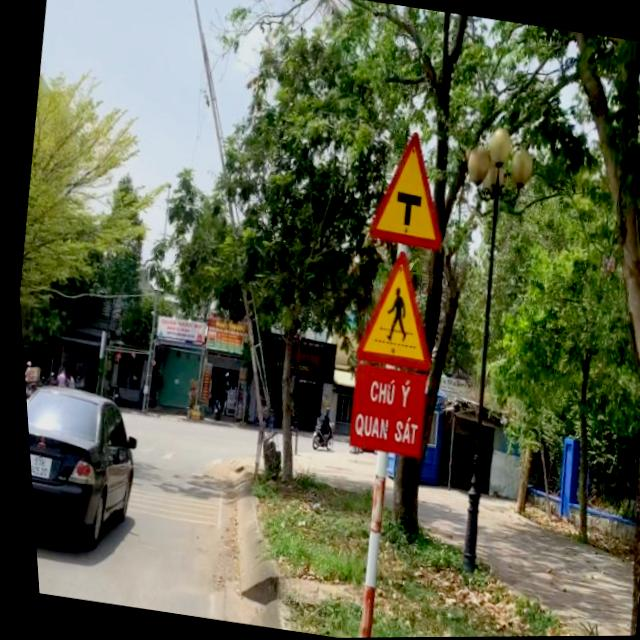Duong giao nhau cung cap: (357, 122, 463, 256)
Nguoi di bo cat ngang: (341, 242, 447, 380)
